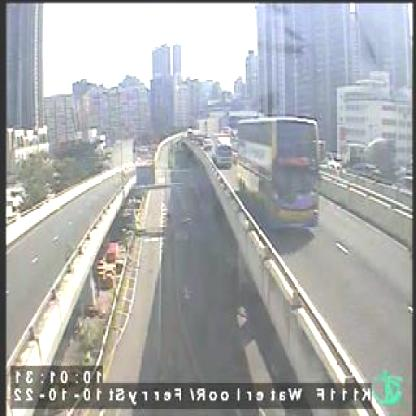Bus: (236, 117, 321, 230)
Truck: (212, 134, 233, 170)
